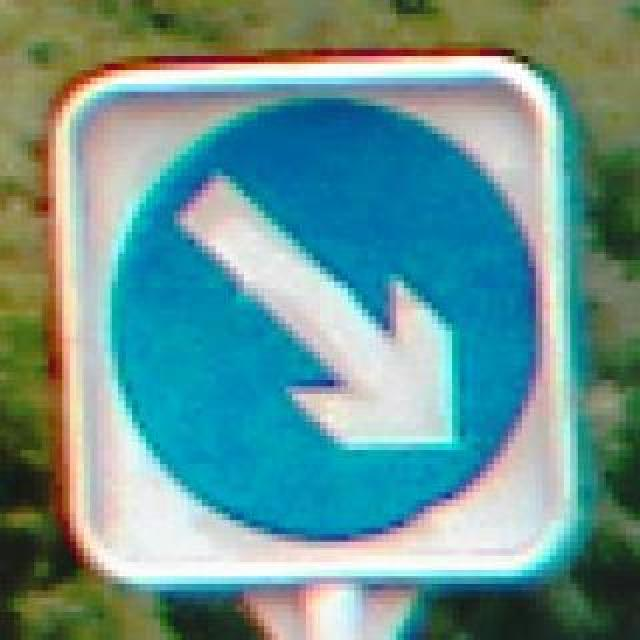keep right: (98, 86, 550, 542)
